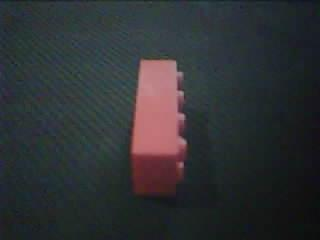lego: (130, 57, 186, 196)
